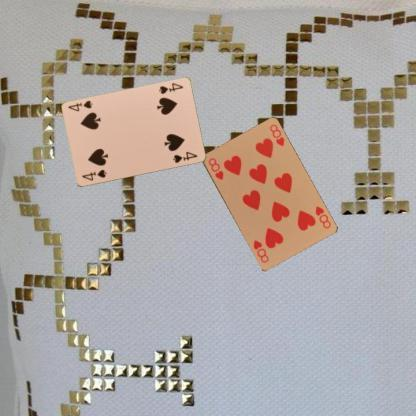4s: (156, 80, 184, 96), (79, 167, 108, 182)
8h: (312, 203, 332, 230), (206, 155, 224, 181)
